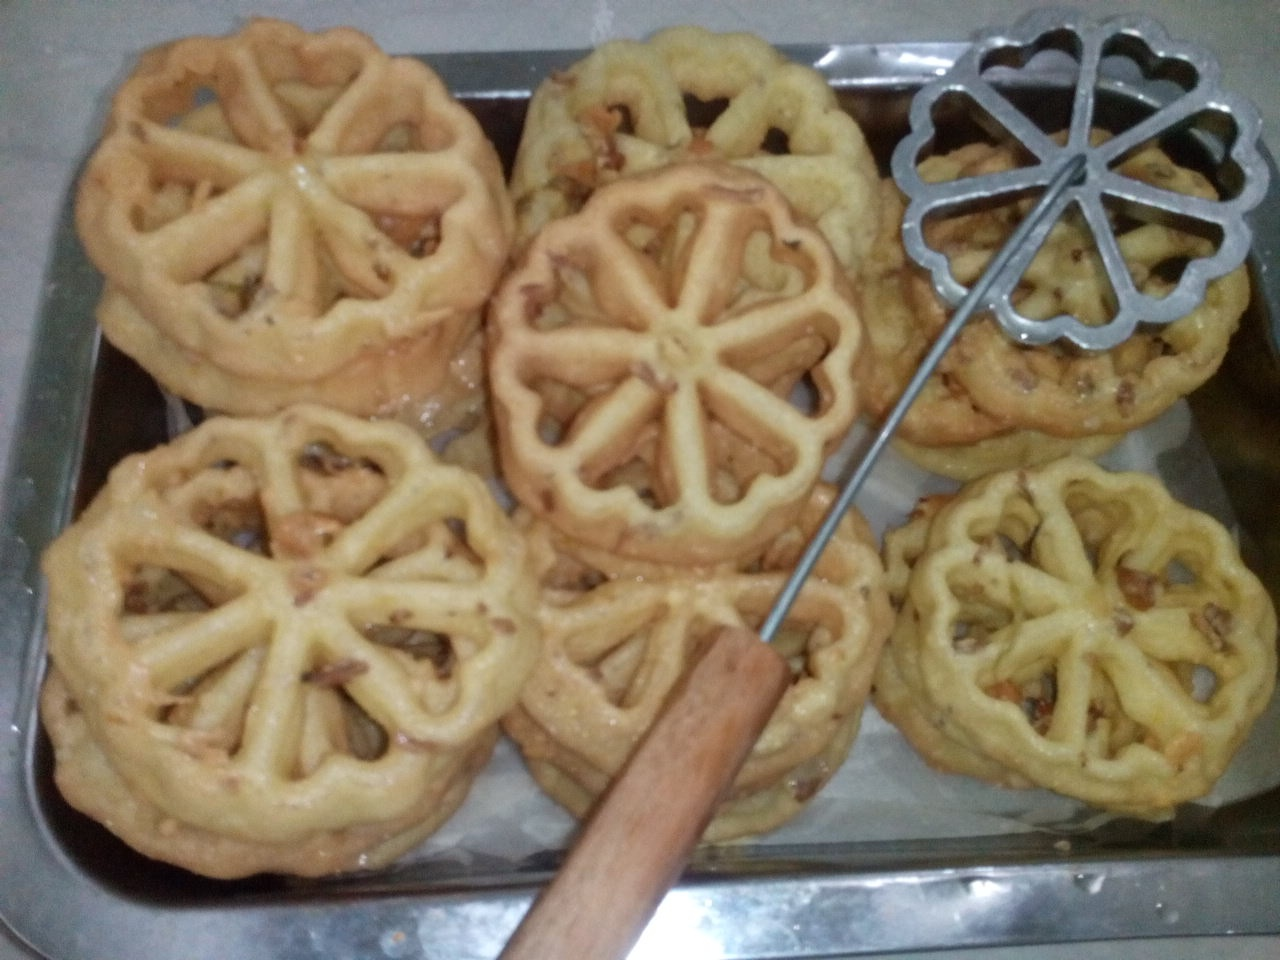kembang_goyang: (20, 414, 518, 839), (498, 148, 856, 569), (76, 27, 467, 389)
